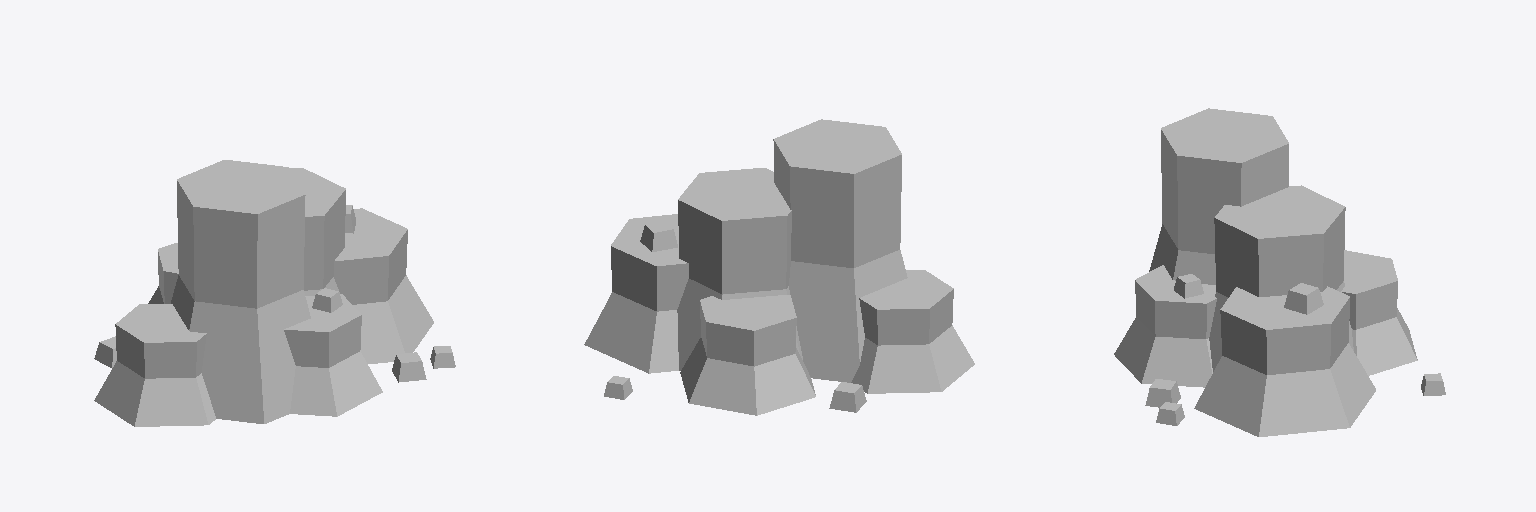
Rendered from rock1.obj.
The picture shows the model from 3 angles: view 1: azimuth 30°, elevation 25°; view 2: azimuth 150°, elevation 25°; view 3: azimuth 270°, elevation 25°; orthographic projection.
Visible parts, largest first — view 1: rocks-a; view 2: rocks-a; view 3: rocks-a.
Boxes of the visible parts, x1=… form: rocks-a: x1=94, y1=160, x2=455, y2=426; rocks-a: x1=584, y1=119, x2=974, y2=415; rocks-a: x1=1114, y1=108, x2=1445, y2=436.
Bounding box in the file's own units: 5.11 × 2.9 × 4.39.